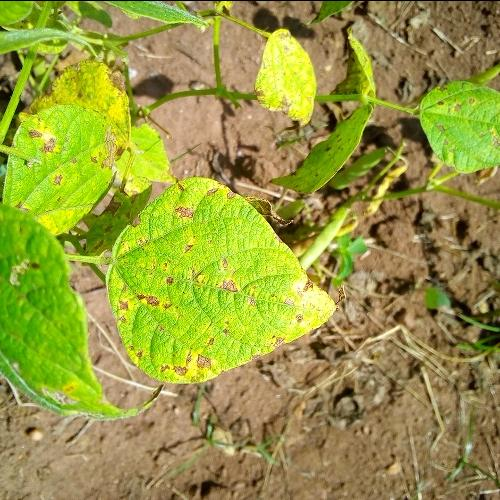hawar: (135, 208, 259, 314), (90, 122, 122, 176), (18, 119, 65, 154), (165, 348, 217, 379), (43, 169, 68, 192), (282, 304, 304, 330), (122, 335, 147, 356), (116, 293, 134, 321)
mozaik: (102, 194, 312, 364)
